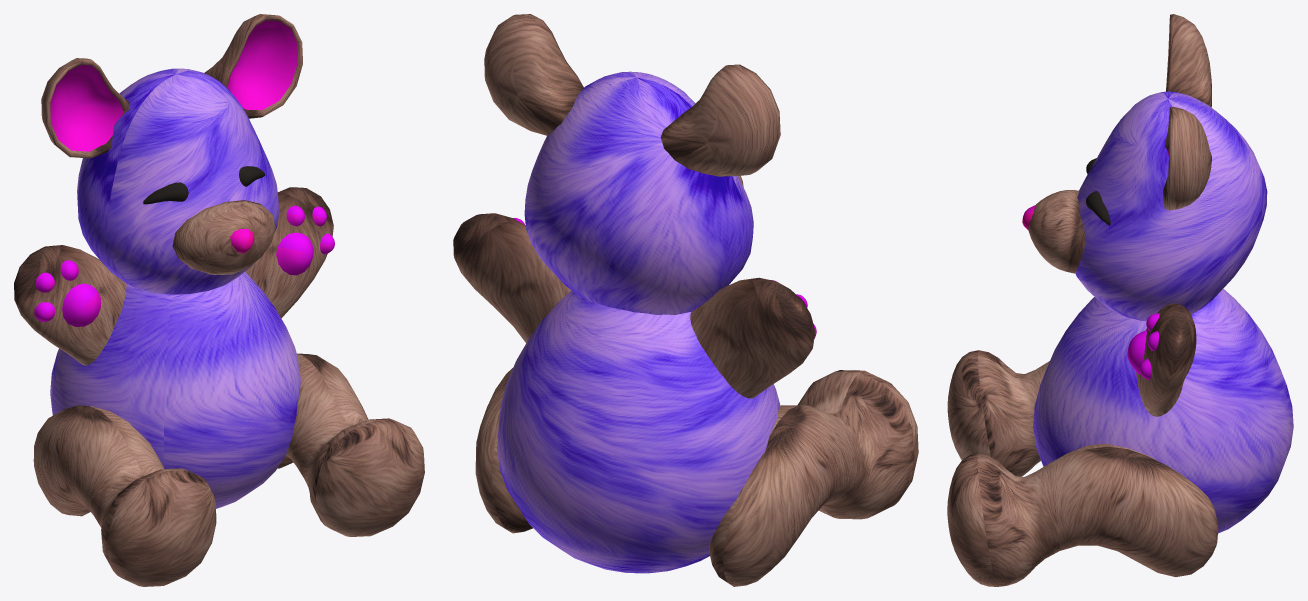
The model's file is plush.fbx.
3 views of the same model, side by side, from view 1: azimuth 30°, elevation 25°; view 2: azimuth 150°, elevation 25°; view 3: azimuth 270°, elevation 25° (orthographic). The views are drawn at different scales.
Visible parts, largest first — view 1: Sphere; view 2: Sphere; view 3: Sphere.
Part boxes in pixels (left/top/right/bottom): Sphere: left=14, top=14, right=424, bottom=586; Sphere: left=453, top=14, right=918, bottom=586; Sphere: left=947, top=14, right=1293, bottom=586.
Size of the model in its own units: 250 by 350 by 233.
